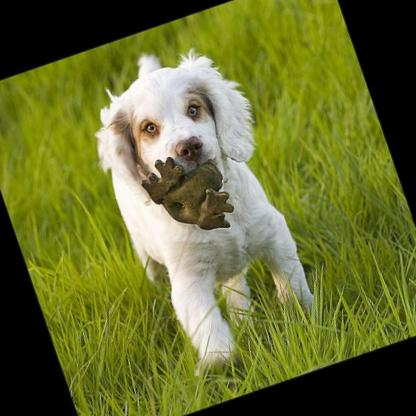clumber: (57, 9, 356, 398)
